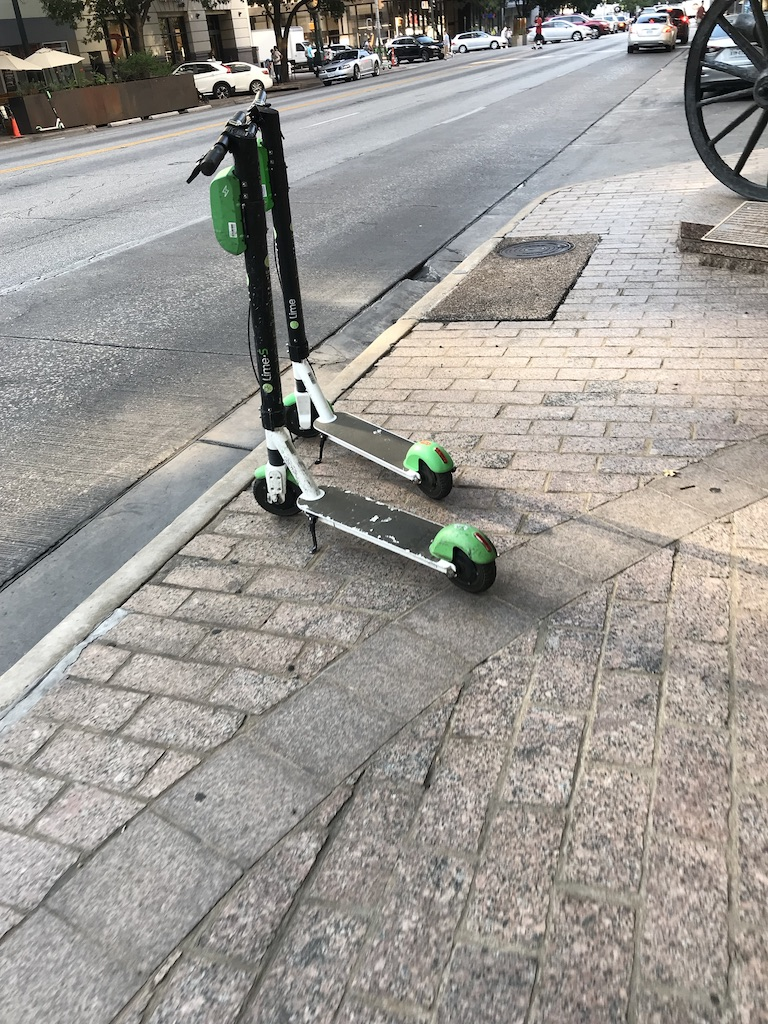scooter: (186, 112, 499, 595), (247, 91, 456, 502)
